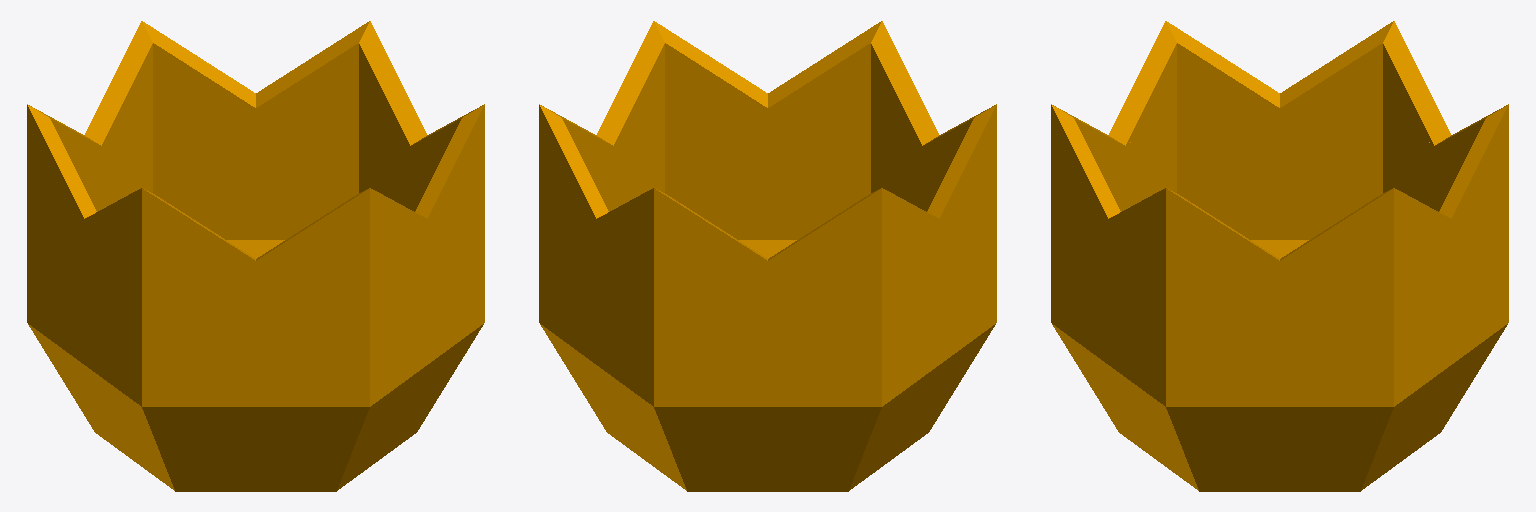
robot.urdf — eggshell_flat_half:
<?xml version="1.0"?>
<robot name="eggshell_flat_half">
  <link name="eggshell_flat_half">
    <inertial>
        <origin rpy="0 0 0" xyz="0 0 0"/>
        <mass value="0.0025"/>
        <inertia ixx="1e-5" ixy="0" ixz="0" iyy="1e-5" iyz="0" izz="1e-5"/>
    </inertial>
    <visual>
      <origin rpy="0 0 0" xyz="0 0 0"/>
      <geometry>
        <mesh filename="eggshell_flat_half_visual.obj"/>
      </geometry>
    </visual>
    <collision>
      <origin rpy="0 0 0" xyz="0 0 0"/>
      <geometry>
        <mesh filename="eggshell_flat_half_collision.obj"/>
      </geometry>
    </collision>
  </link>
</robot>

--- Facts derived from the render (not from the file) ---
3 views of the same robot in one strip: view 1: azimuth 30°, elevation 25°; view 2: azimuth 150°, elevation 25°; view 3: azimuth 270°, elevation 25° (orthographic).
Robot: eggshell_flat_half — 1 links, 0 joints (none); root link eggshell_flat_half; default pose: all joints at 0.
Links seen in each view (by area): view 1: eggshell_flat_half; view 2: eggshell_flat_half; view 3: eggshell_flat_half.
Link boxes in pixels (<box>): eggshell_flat_half: <box>27,21,484,491</box>; eggshell_flat_half: <box>539,21,996,491</box>; eggshell_flat_half: <box>1051,21,1508,491</box>.
Size in the robot's own frame: 0.1161 by 0.134 by 0.1062 metres.
Meshes: 1 distinct files referenced, 1 mesh visuals loaded (1 OBJ).